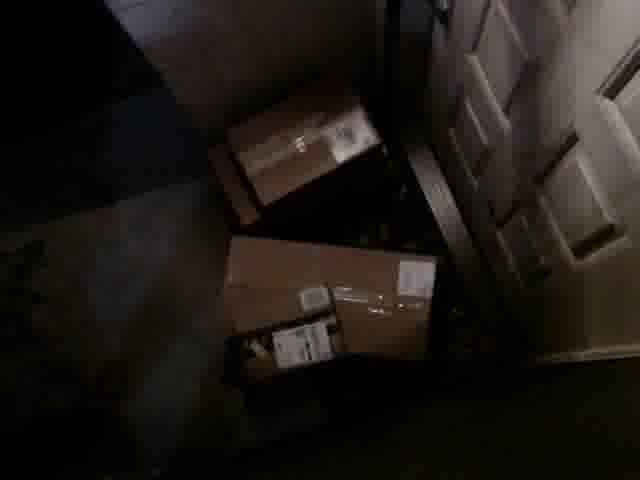box: (200, 74, 390, 229), (225, 230, 436, 366), (220, 75, 381, 209), (203, 280, 349, 386)
